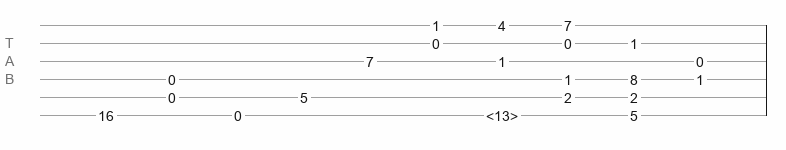0: (168, 72, 176, 82), (168, 90, 176, 100), (234, 108, 242, 118), (432, 36, 440, 46), (564, 36, 572, 46), (696, 54, 704, 64)
1: (432, 18, 440, 28), (498, 54, 506, 64), (564, 72, 572, 82), (630, 36, 638, 46), (696, 72, 704, 82)
16: (98, 108, 114, 118)
2: (564, 90, 572, 100), (630, 90, 638, 100)
4: (498, 18, 506, 28)
5: (300, 90, 308, 100), (630, 108, 638, 118)
7: (366, 54, 374, 64), (564, 18, 572, 28)
8: (630, 72, 638, 82)
harmonic: (486, 108, 518, 118)
